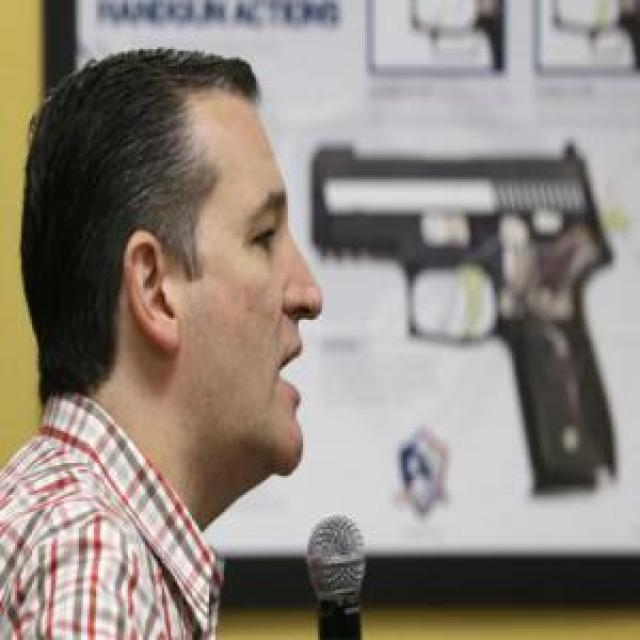pistol: (312, 147, 627, 491)
